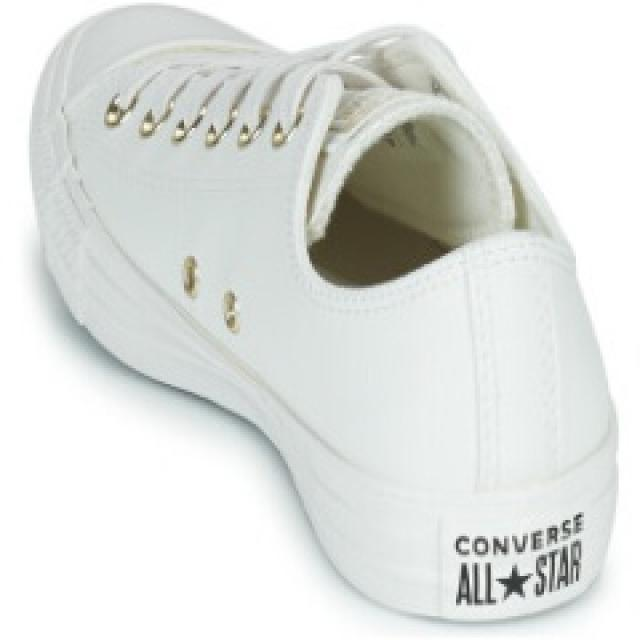shoes: (6, 0, 640, 640)
